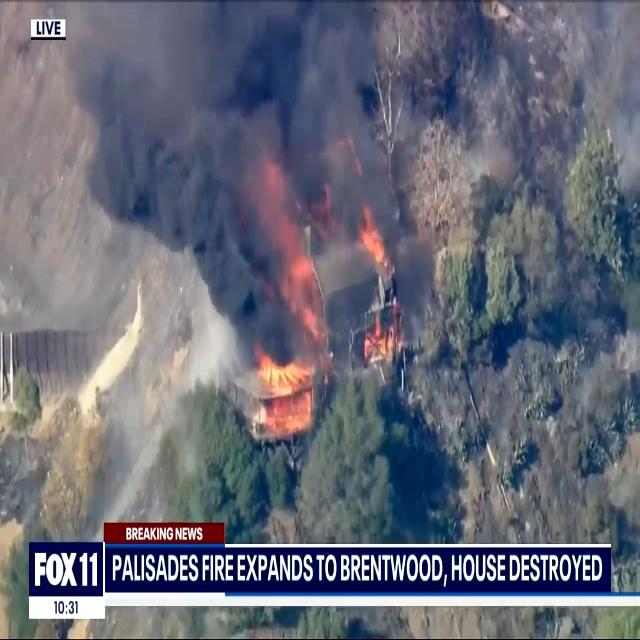no_helmet: (81, 0, 381, 362)
